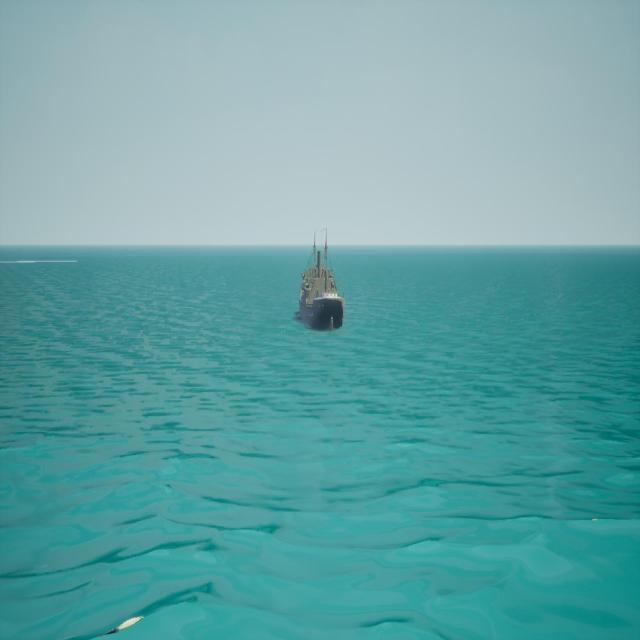fishing ship: (300, 230, 345, 333)
